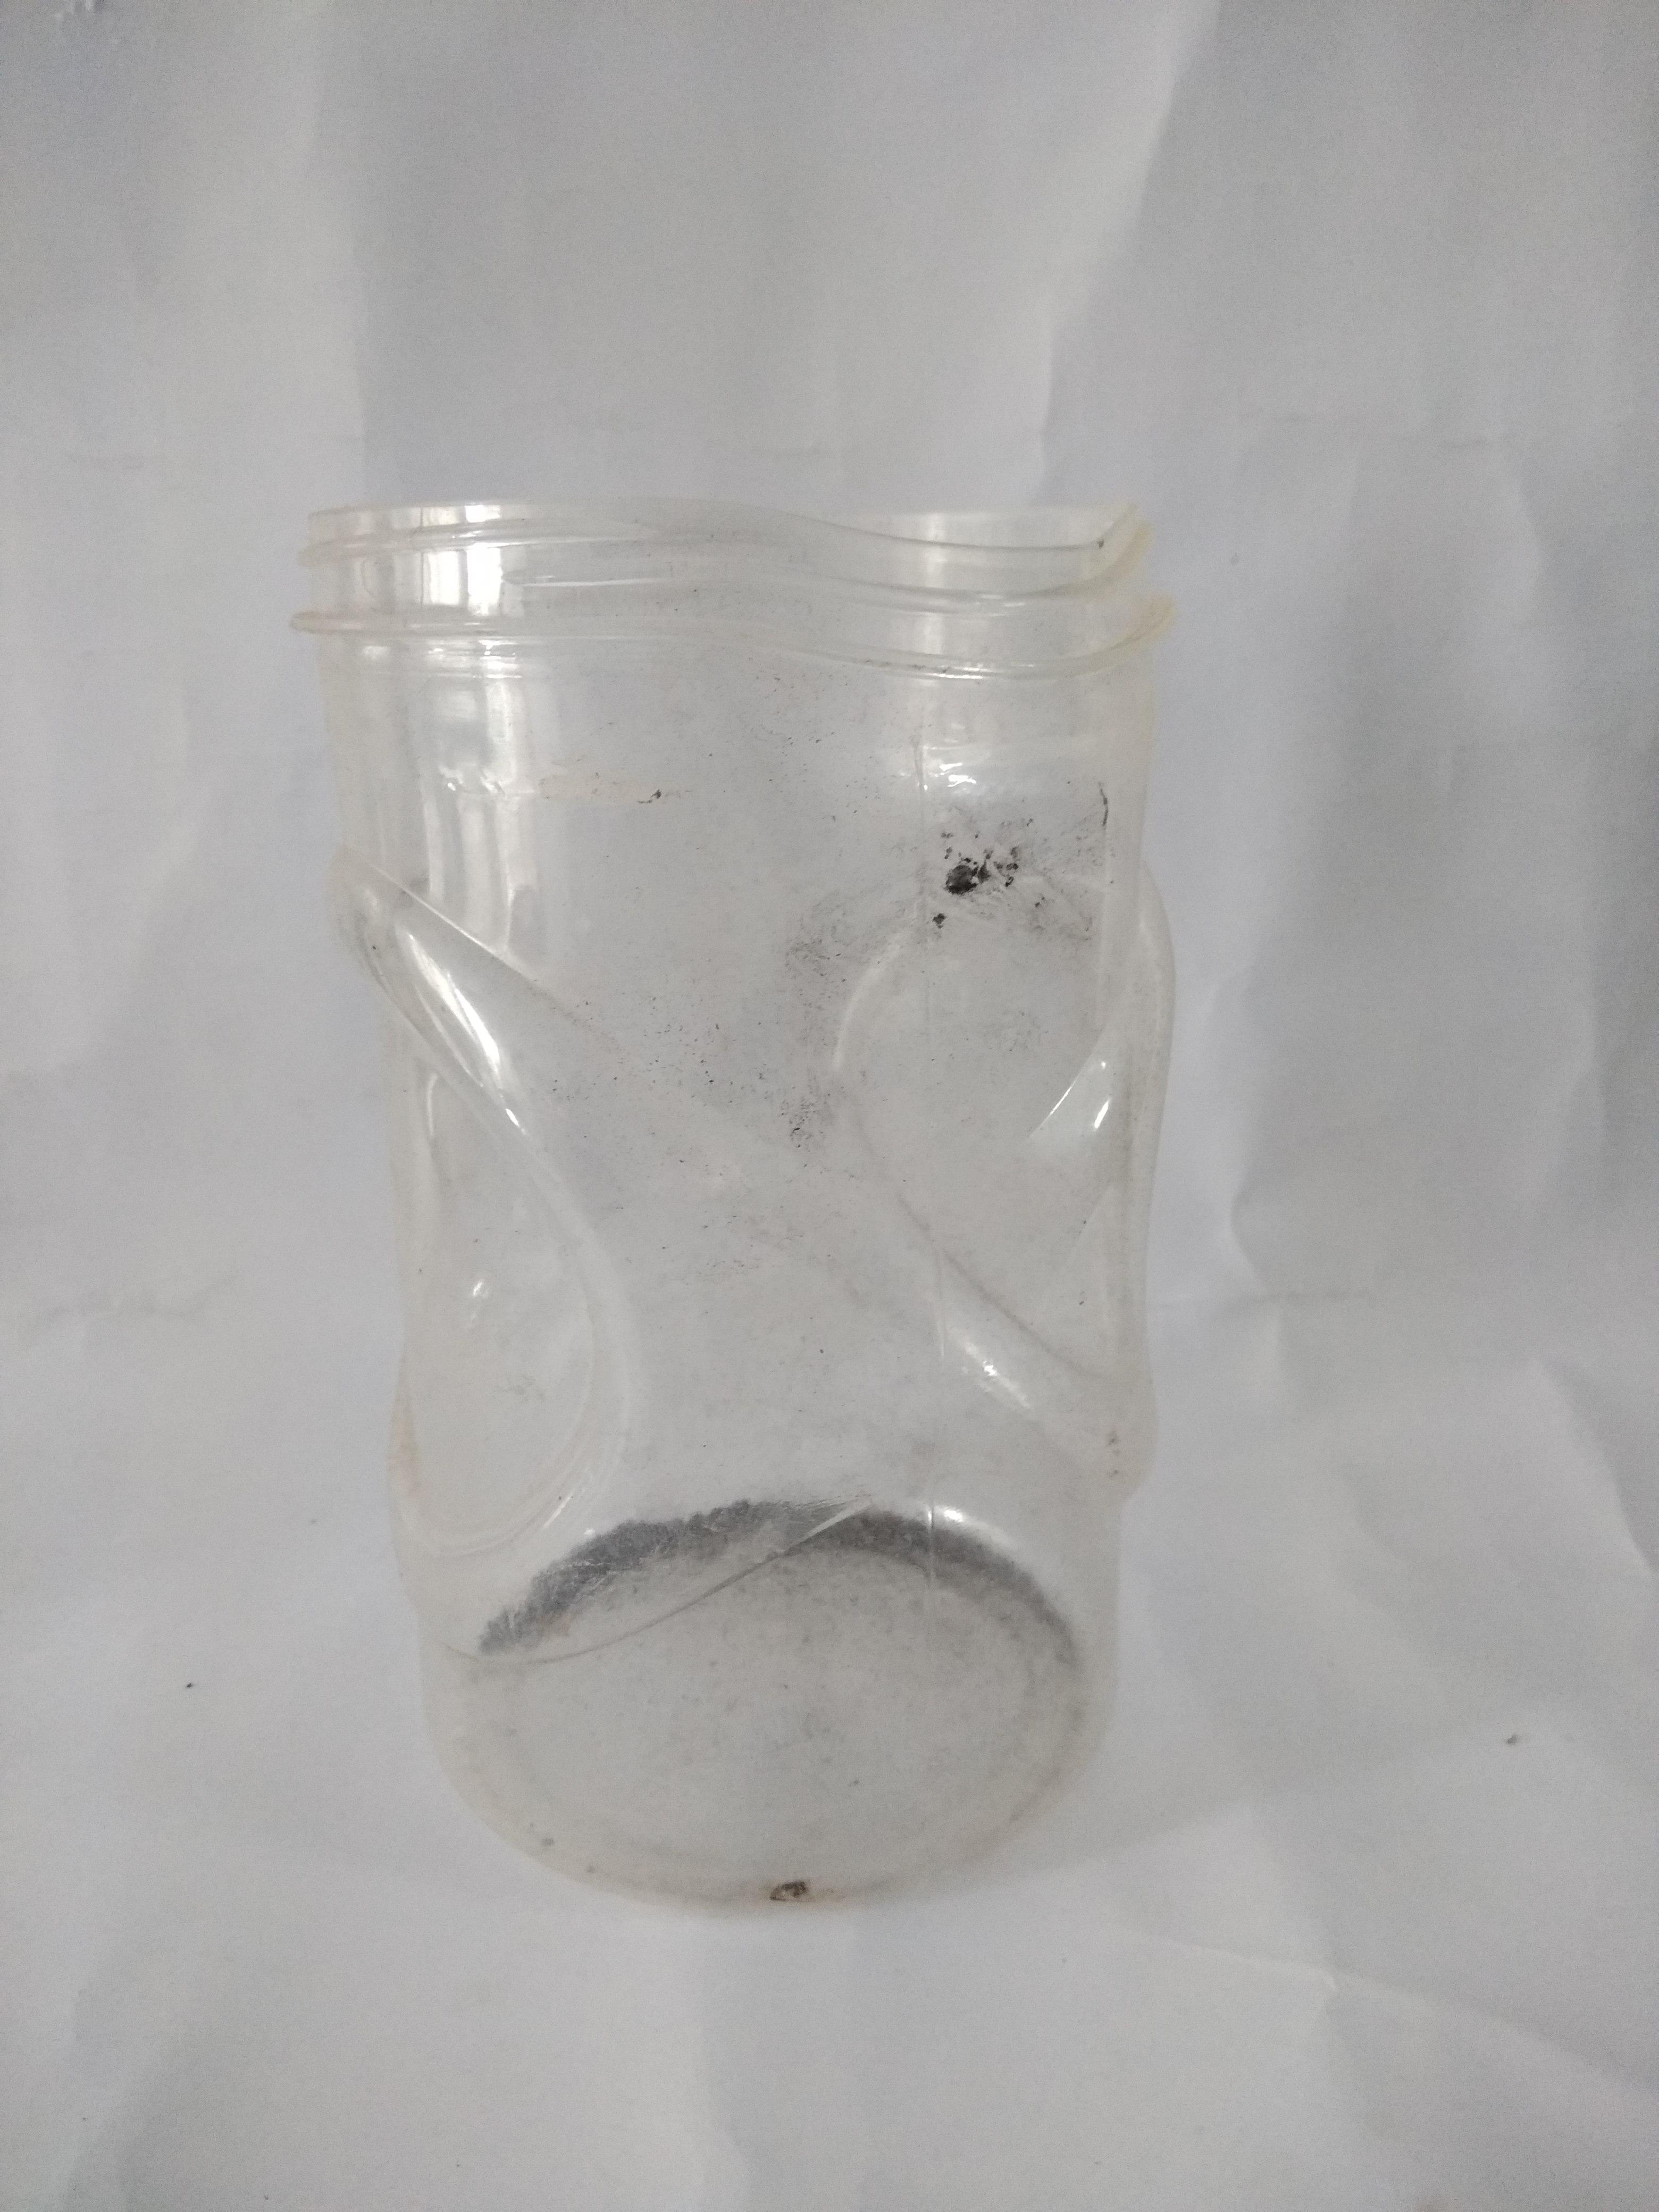PETE: (282, 474, 1182, 1923)
